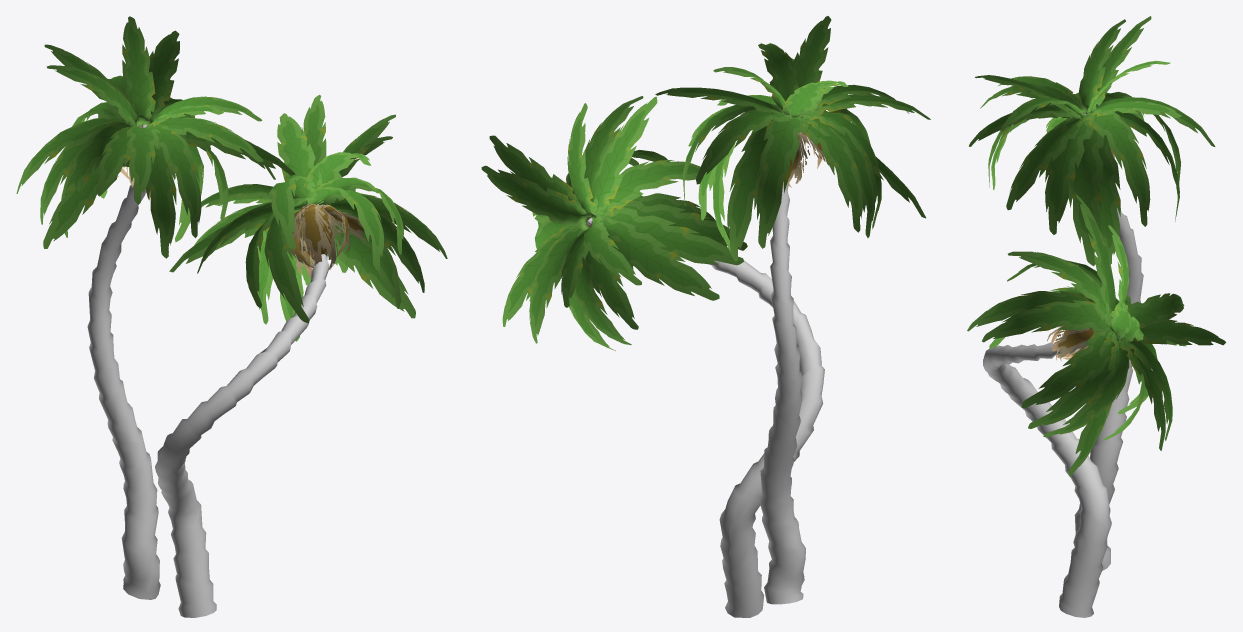
Rendered from SM_PalmTree03.fbx.
The picture shows the model from 3 angles, left to right: view 1: azimuth 30°, elevation 25°; view 2: azimuth 150°, elevation 25°; view 3: azimuth 270°, elevation 25°; orthographic projection. The views are drawn at different scales.
Parts seen in each view (by area): view 1: PalmGen.003; view 2: PalmGen.003; view 3: PalmGen.003.
Boxes of the visible parts, box(x1,y1,x2,y2) form: PalmGen.003: box(16, 16, 447, 617); PalmGen.003: box(481, 16, 930, 617); PalmGen.003: box(967, 16, 1225, 617).
Size of the model in its own units: 8.65 by 5.25 by 11.88.
